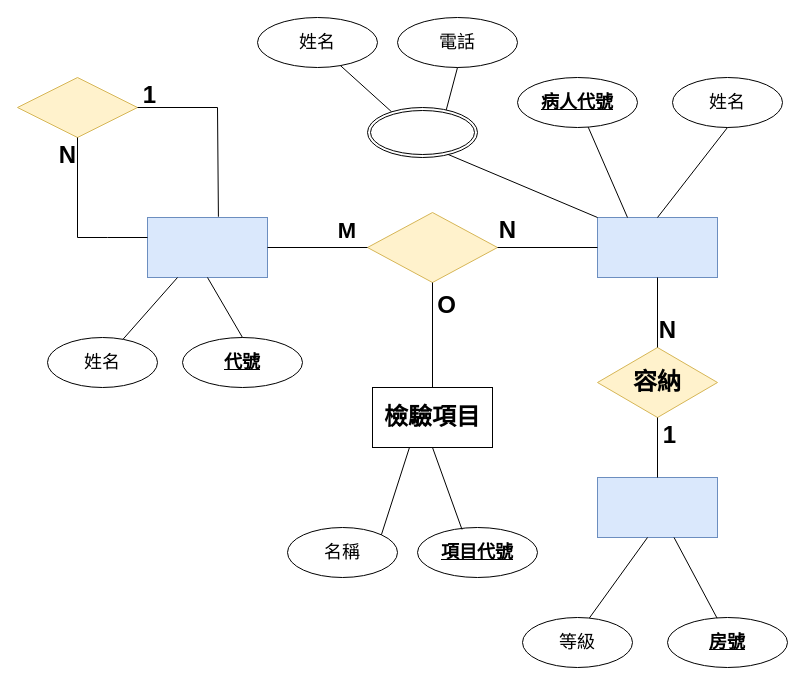
This 805x685 diagram has some shape labels left out. The shapes that lost their labels are listed below. From the top down, each one's centre as x and y in pixels, then its label:
(x=77, y=107): 指導
(x=422, y=132): 緊急連絡人
(x=207, y=247): 醫師
(x=432, y=247): 檢驗
(x=657, y=247): 住院病人
(x=657, y=507): 病房
